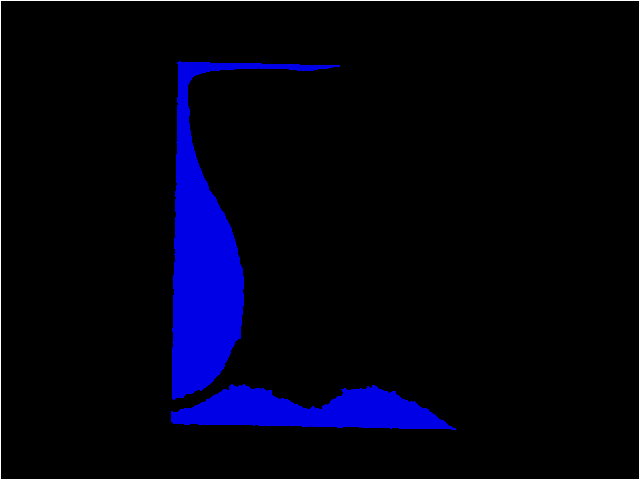defect: (171, 59, 342, 402), (170, 384, 458, 431)
